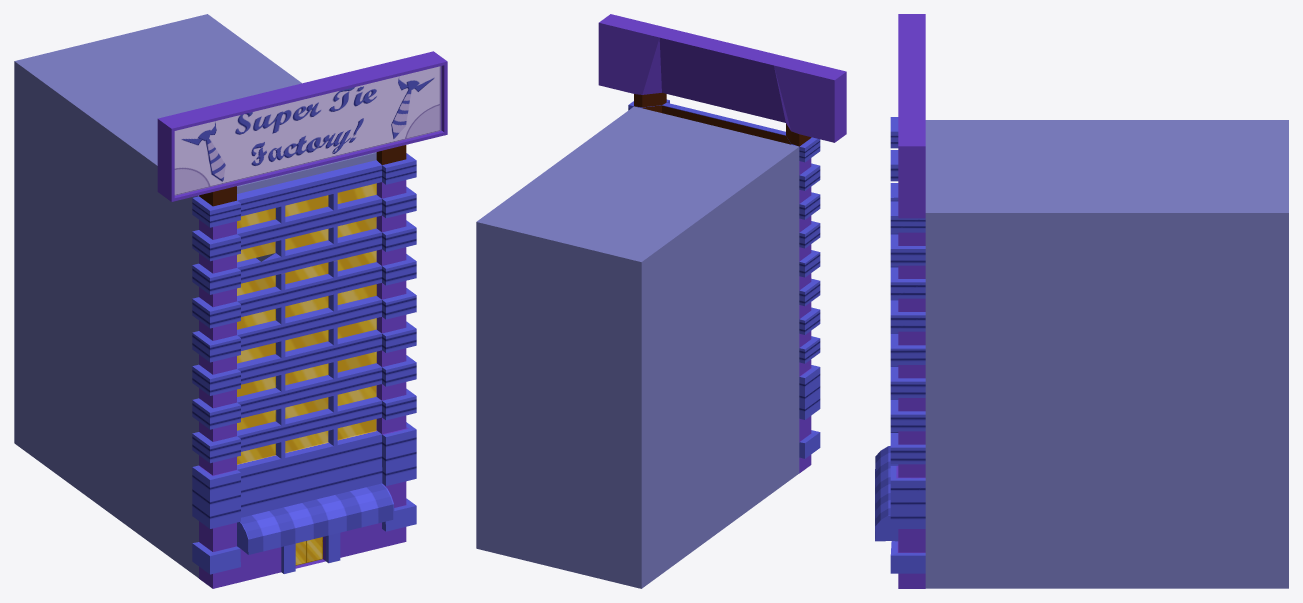
The model's file is Lloyd Bld2.fbx.
The picture shows the model from 3 angles, left to right: view 1: azimuth 30°, elevation 25°; view 2: azimuth 150°, elevation 25°; view 3: azimuth 270°, elevation 25°; orthographic projection. The views are drawn at different scales.
Parts seen in each view (by area): view 1: Tall_Bldg_polySurface1, Bldg_Combo_3:Tall_Bldg_inside; view 2: Bldg_Combo_3:Tall_Bldg_inside, Tall_Bldg_polySurface1; view 3: Bldg_Combo_3:Tall_Bldg_inside, Tall_Bldg_polySurface1.
Part boxes in pixels (x1,y1,x2,y2): Tall_Bldg_polySurface1: [157, 51, 447, 588]; Bldg_Combo_3:Tall_Bldg_inside: [14, 14, 376, 578]; Bldg_Combo_3:Tall_Bldg_inside: [476, 106, 799, 588]; Tall_Bldg_polySurface1: [598, 14, 846, 473]; Bldg_Combo_3:Tall_Bldg_inside: [925, 120, 1288, 588]; Tall_Bldg_polySurface1: [875, 14, 925, 588].
Size of the model in its own units: 11.43 by 18.6 by 15.08.
2 materials, 1 textured.
